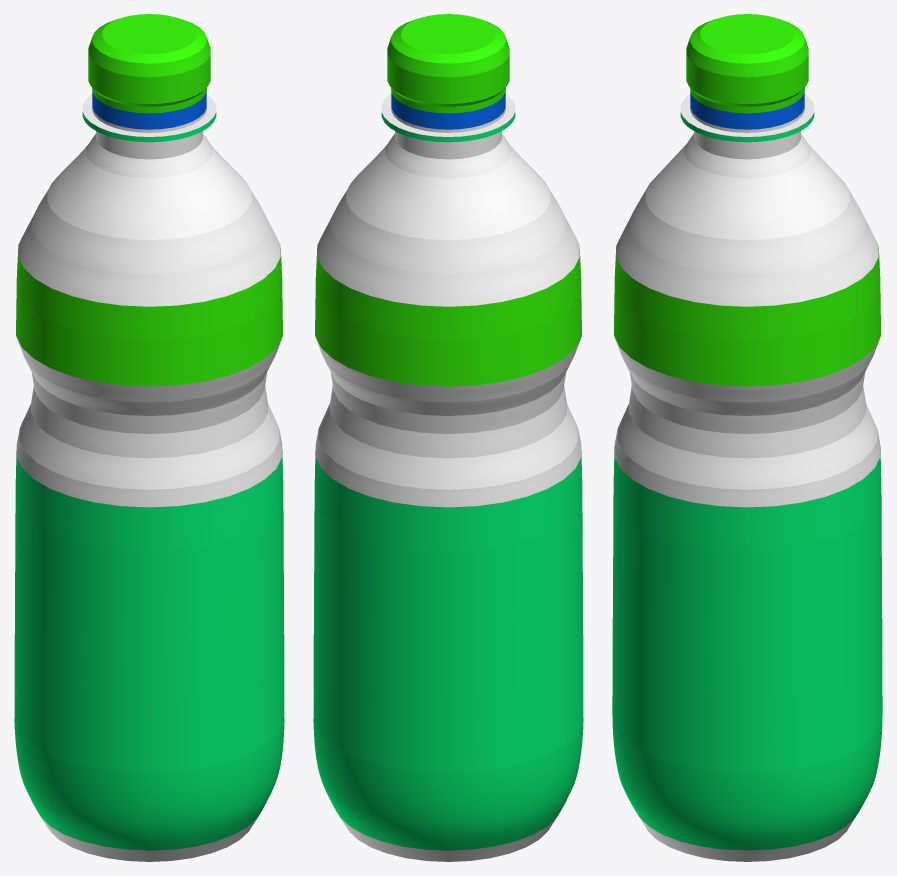
File: Bottle2.FBX
The picture shows the model from 3 angles, left to right: view 1: azimuth 30°, elevation 25°; view 2: azimuth 150°, elevation 25°; view 3: azimuth 270°, elevation 25°; orthographic projection.
Visible parts, largest first — view 1: Bottle Green; view 2: Bottle Green; view 3: Bottle Green.
Part boxes in pixels (box(x1,y1,x2,y2)): Bottle Green: box(14, 14, 284, 861); Bottle Green: box(313, 14, 583, 861); Bottle Green: box(612, 14, 882, 861).
Size of the model in its own units: 0.7102 by 2.26 by 0.7066.
